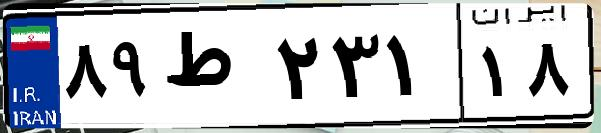1: (385, 28, 445, 110), (475, 38, 525, 113)
2: (270, 28, 330, 110)
3: (330, 28, 385, 110)
8: (57, 26, 110, 100), (525, 38, 570, 115)
9: (110, 28, 158, 98)
ط: (158, 20, 270, 120)
